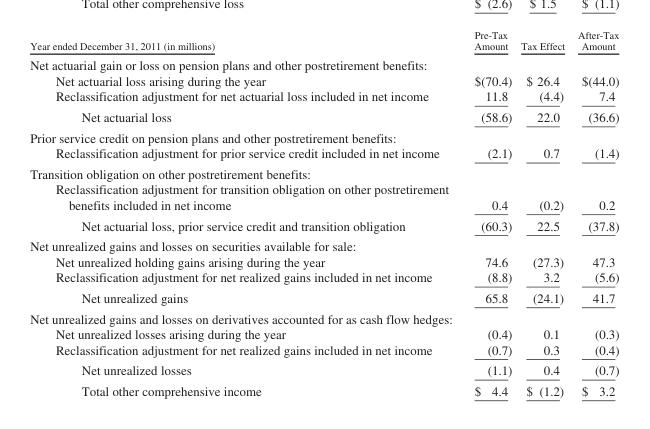table: (29, 29, 618, 397)
table column: (29, 29, 460, 397), (460, 29, 515, 397), (515, 29, 570, 397), (570, 29, 618, 397)
table column header: (29, 29, 618, 54)
table projected row header: (29, 126, 618, 145), (29, 54, 618, 72), (29, 163, 618, 181), (29, 235, 618, 253), (29, 307, 618, 325)
table row: (29, 181, 618, 214), (29, 29, 618, 54), (29, 214, 618, 235), (29, 359, 618, 380), (29, 106, 618, 126), (29, 287, 618, 307), (29, 126, 618, 145), (29, 54, 618, 72), (29, 88, 618, 106), (29, 145, 618, 163), (29, 163, 618, 181), (29, 235, 618, 253), (29, 269, 618, 287), (29, 307, 618, 325), (29, 341, 618, 359), (29, 380, 618, 397), (29, 72, 618, 88), (29, 253, 618, 269), (29, 325, 618, 341)
